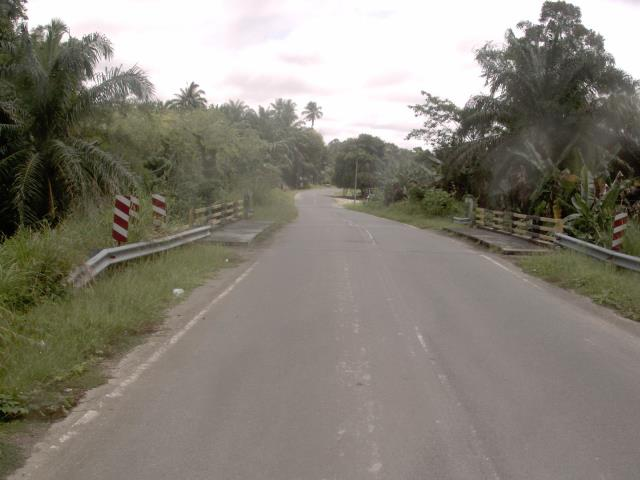traffic_sign: (106, 188, 138, 250), (606, 204, 634, 255)
